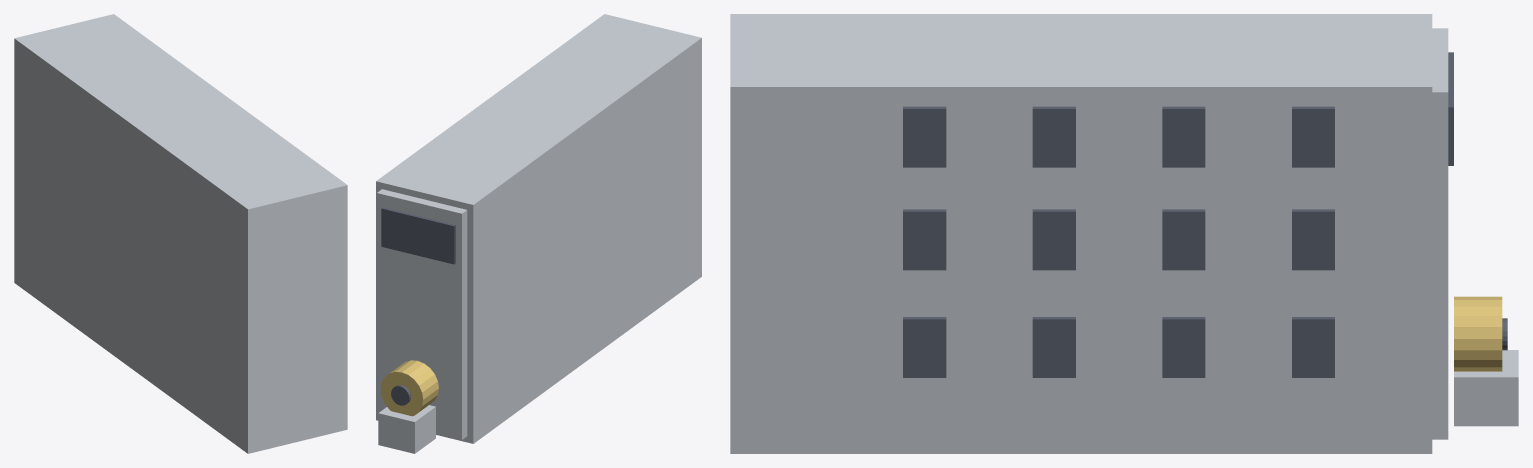
File: detector.glb
3 views of the same model, side by side, from view 1: azimuth 30°, elevation 25°; view 2: azimuth 150°, elevation 25°; view 3: azimuth 270°, elevation 25° (orthographic). The views are drawn at different scales.
Parts seen in each view (by area): view 1: silver enclosure; view 2: silver enclosure, front panel, black name plate, silver extraction latch, gold optical port, black port aperture; view 3: silver enclosure, black vent (×12), front panel, silver extraction latch, gold optical port.
Part boxes in pixels (left/top/right/bottom): silver enclosure: left=14, top=14, right=347, bottom=453; silver enclosure: left=376, top=14, right=701, bottom=443; front panel: left=377, top=189, right=467, bottom=439; black name plate: left=381, top=207, right=455, bottom=264; silver extraction latch: left=378, top=405, right=435, bottom=453; gold optical port: left=380, top=360, right=438, bottom=416; black port aperture: left=391, top=385, right=410, bottom=405; silver enclosure: left=730, top=14, right=1432, bottom=453; black vent (×12): left=903, top=106, right=1334, bottom=377; front panel: left=1432, top=28, right=1448, bottom=439; silver extraction latch: left=1454, top=350, right=1518, bottom=426; gold optical port: left=1454, top=296, right=1502, bottom=371.
Size of the model in its own units: 0.033 by 0.075 by 0.146.
